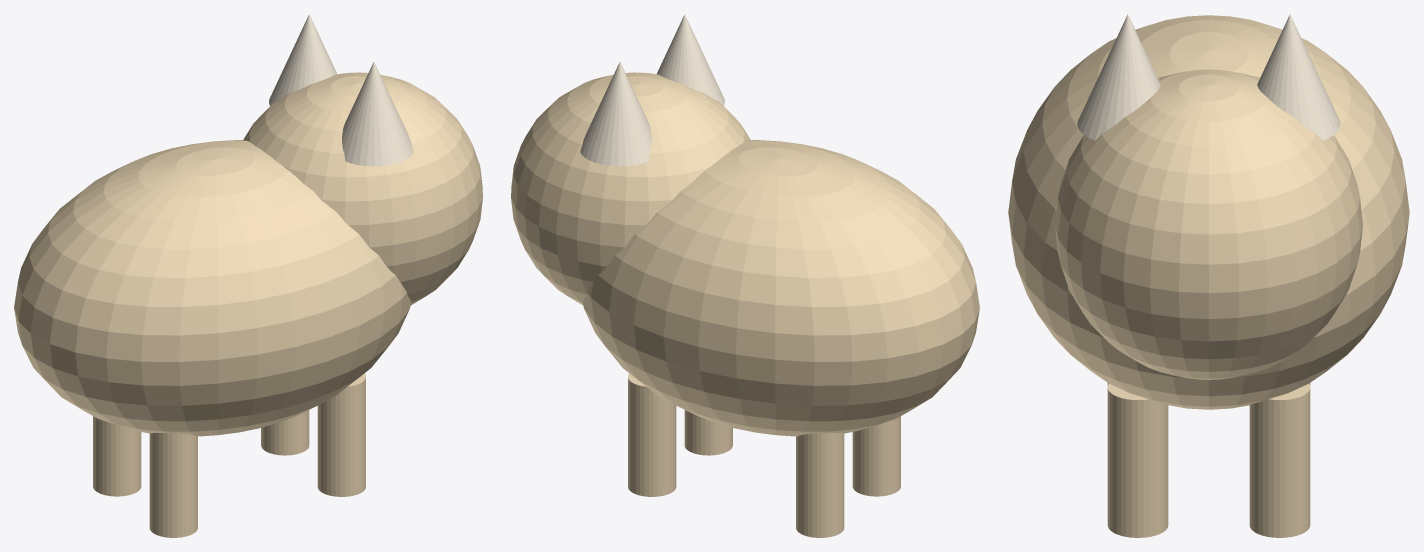
File: pet_character.glb
3 views of the same model, side by side, from view 1: azimuth 30°, elevation 25°; view 2: azimuth 150°, elevation 25°; view 3: azimuth 270°, elevation 25° (orthographic). The views are drawn at different scales.
Parts seen in each view (by area): view 1: PetCharacter; view 2: PetCharacter; view 3: PetCharacter.
Part boxes in pixels (x1=…): PetCharacter: x1=14, y1=14, x2=482, y2=537; PetCharacter: x1=511, y1=14, x2=979, y2=537; PetCharacter: x1=1008, y1=14, x2=1409, y2=537.
Size of the model in its own units: 0.624 by 0.575 by 0.396.
